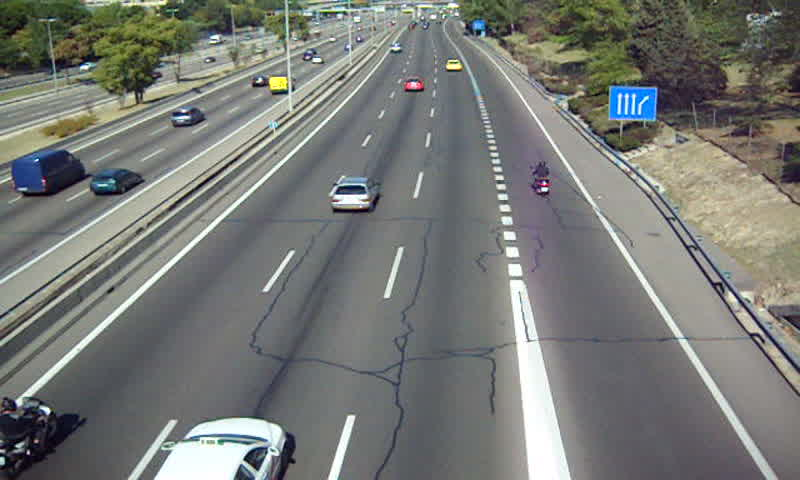car: (329, 178, 380, 211), (404, 76, 422, 95), (446, 60, 463, 70)
motorcycle: (1, 396, 54, 480), (531, 159, 553, 196)
